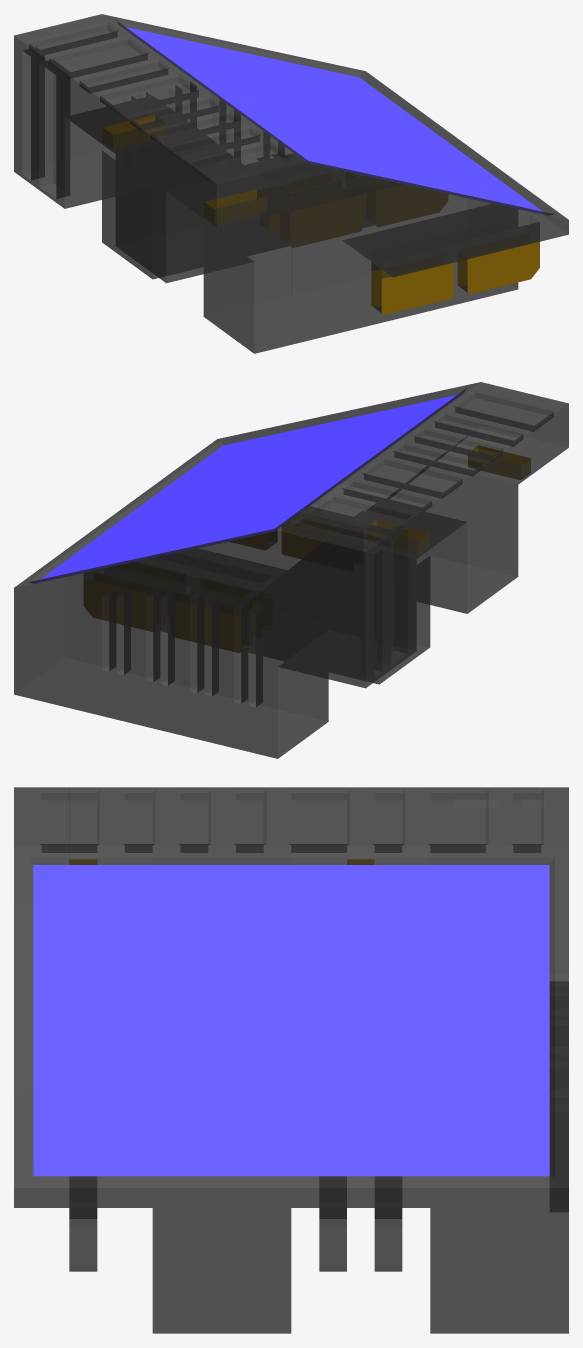
The model's file is attachment008.gltf.
3 views of the same model, one above another, from view 1: azimuth 30°, elevation 25°; view 2: azimuth 150°, elevation 25°; view 3: azimuth 270°, elevation 25° (orthographic). The views are drawn at different scales.
Visible parts, largest first — view 1: Attatchment008; view 2: Attatchment008; view 3: Attatchment008.
Part boxes in pixels (x1,y1,x2,y2): Attatchment008: (14, 14, 568, 353); Attatchment008: (14, 382, 568, 758); Attatchment008: (14, 787, 568, 1333).
Bounding box in the file's own units: 0.1 × 0.062 × 0.1.
